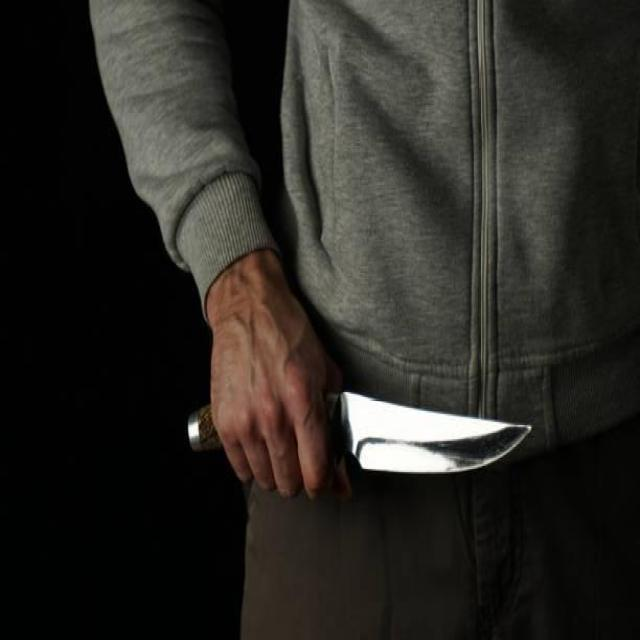faca: (175, 323, 540, 513)
